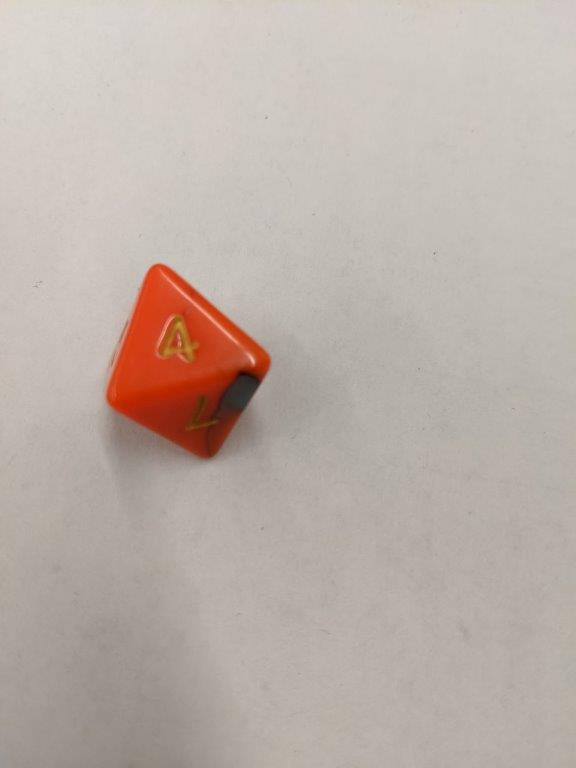d8-4: (107, 265, 275, 461)
